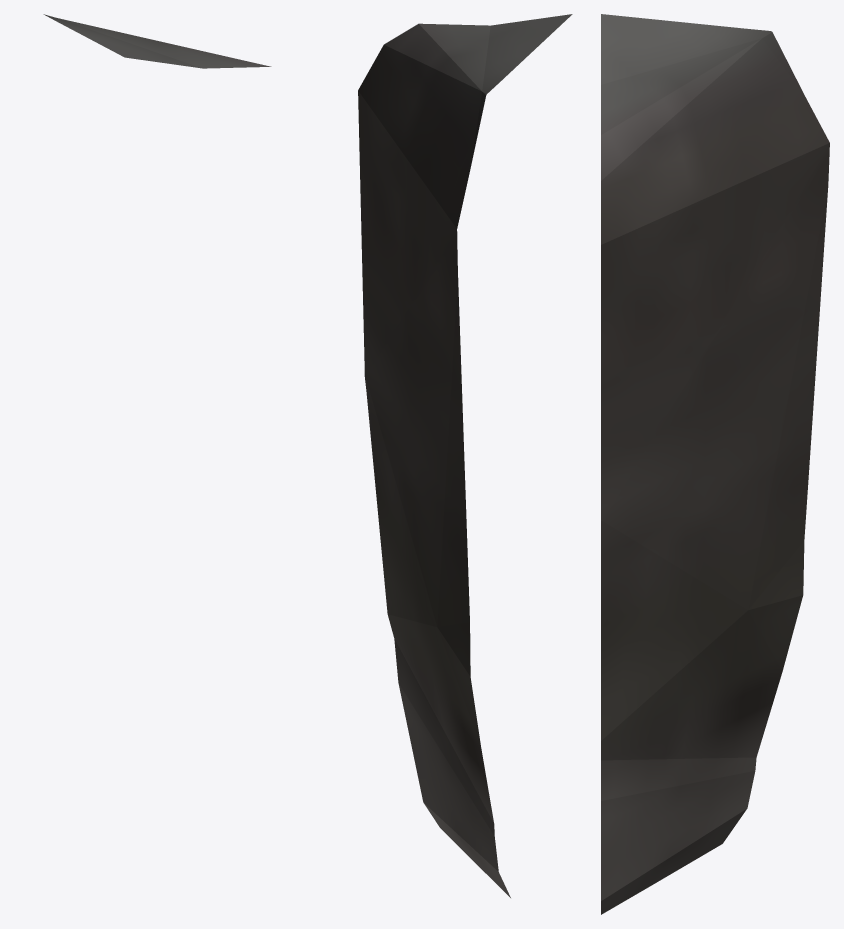
The picture shows the model from 3 angles, left to right: view 1: azimuth 30°, elevation 25°; view 2: azimuth 150°, elevation 25°; view 3: azimuth 270°, elevation 25°; orthographic projection. The views are drawn at different scales.
Size of the model in its own units: 0.0293 by 0.1173 by 0.0274.
Materials: 1 (1 with a texture image).
